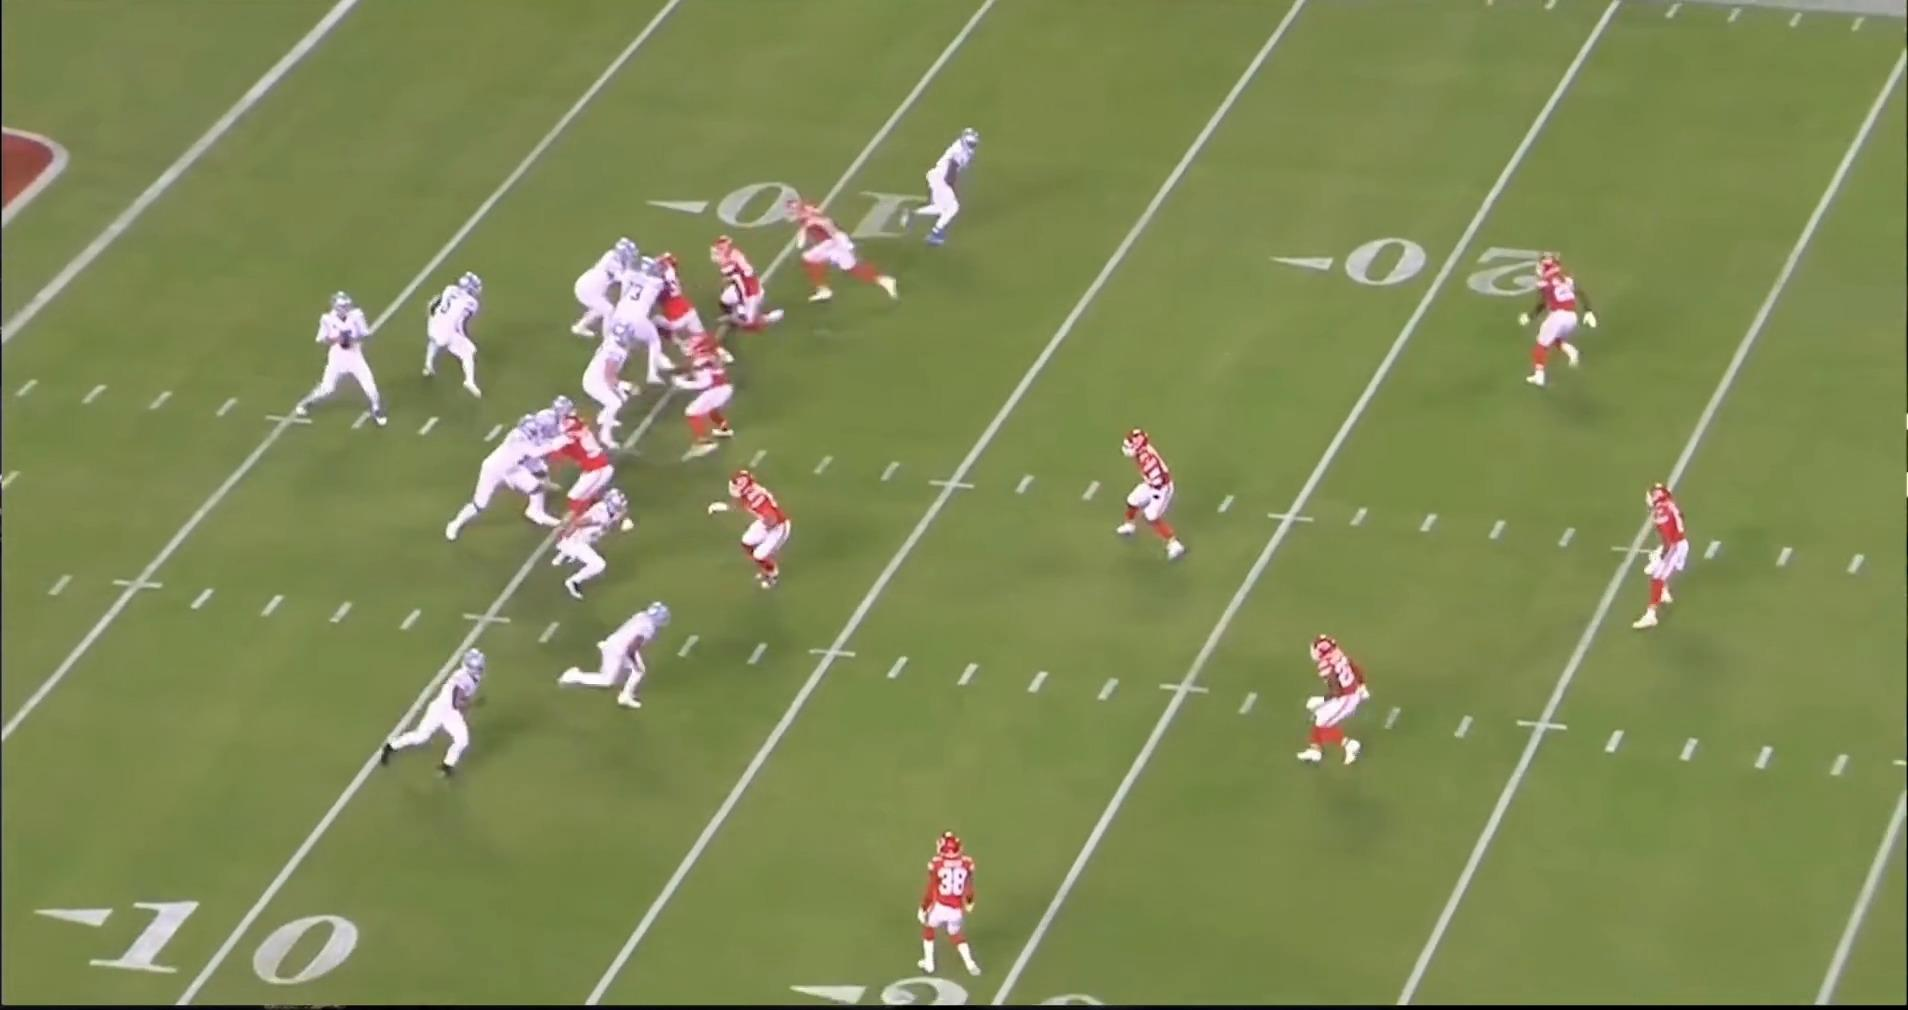defense: (776, 194, 902, 312), (1512, 252, 1596, 390), (920, 832, 996, 981), (1296, 636, 1377, 775), (714, 466, 794, 596), (1114, 428, 1190, 563), (555, 410, 636, 537), (1634, 486, 1701, 634), (655, 252, 736, 367), (668, 330, 741, 456), (703, 237, 780, 343)
oline: (449, 417, 562, 548), (609, 261, 681, 390), (569, 235, 644, 348), (588, 317, 649, 452), (514, 396, 579, 486)
qb: (303, 287, 399, 428)
skill: (374, 648, 492, 784), (558, 600, 680, 716), (893, 125, 989, 251), (419, 268, 491, 400), (550, 491, 631, 602)
